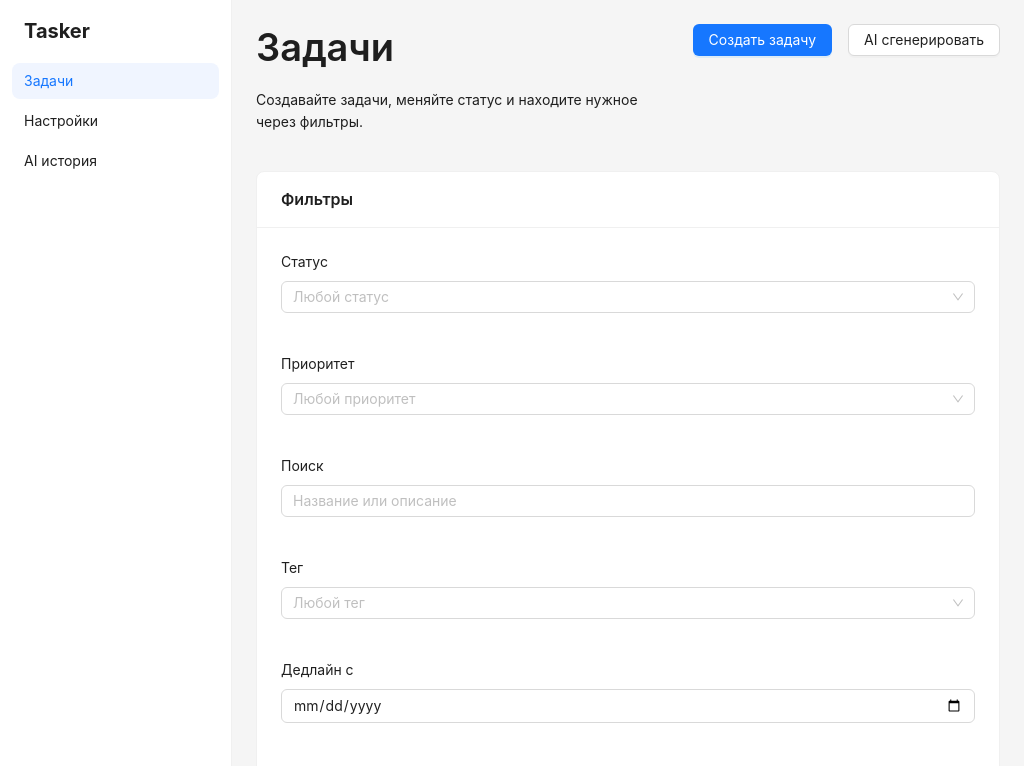
Test: TasksPage › opens dictionaries on settings page
Click the button "Настройки" at [116, 121], box [12,103,219,139]
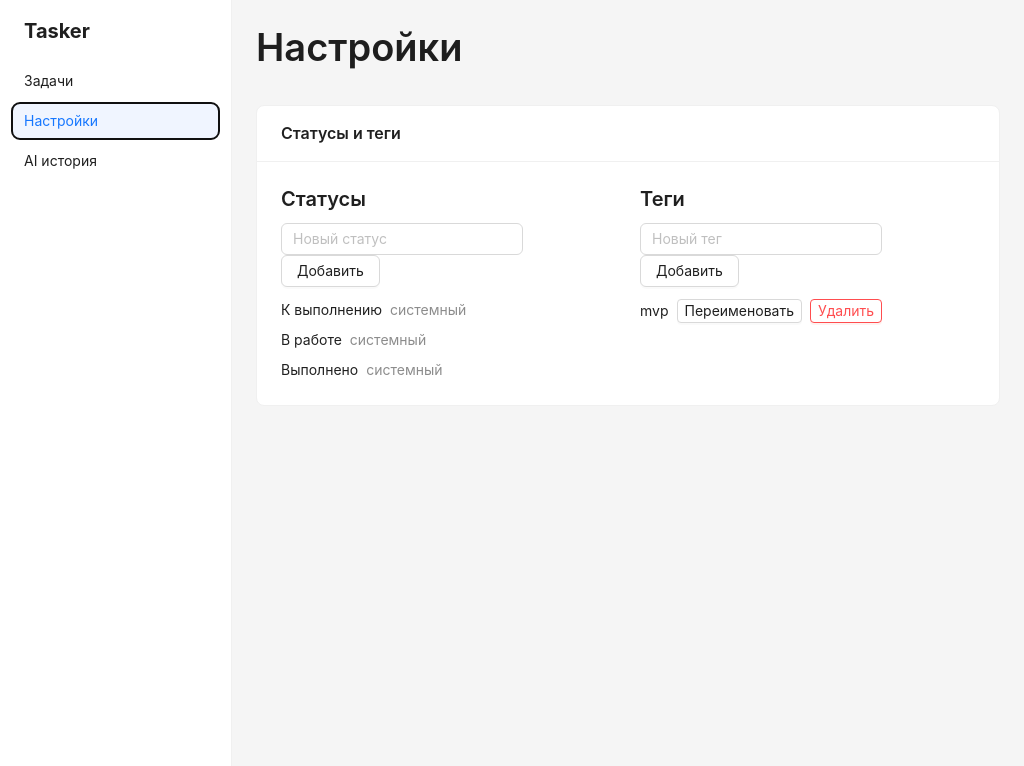
Now the heading "Настройки" is shown, box [256,24,462,70]
Now the heading "Статусы" is shown, box [281,187,366,211]
Now the heading "Теги" is shown, box [640,187,685,211]
